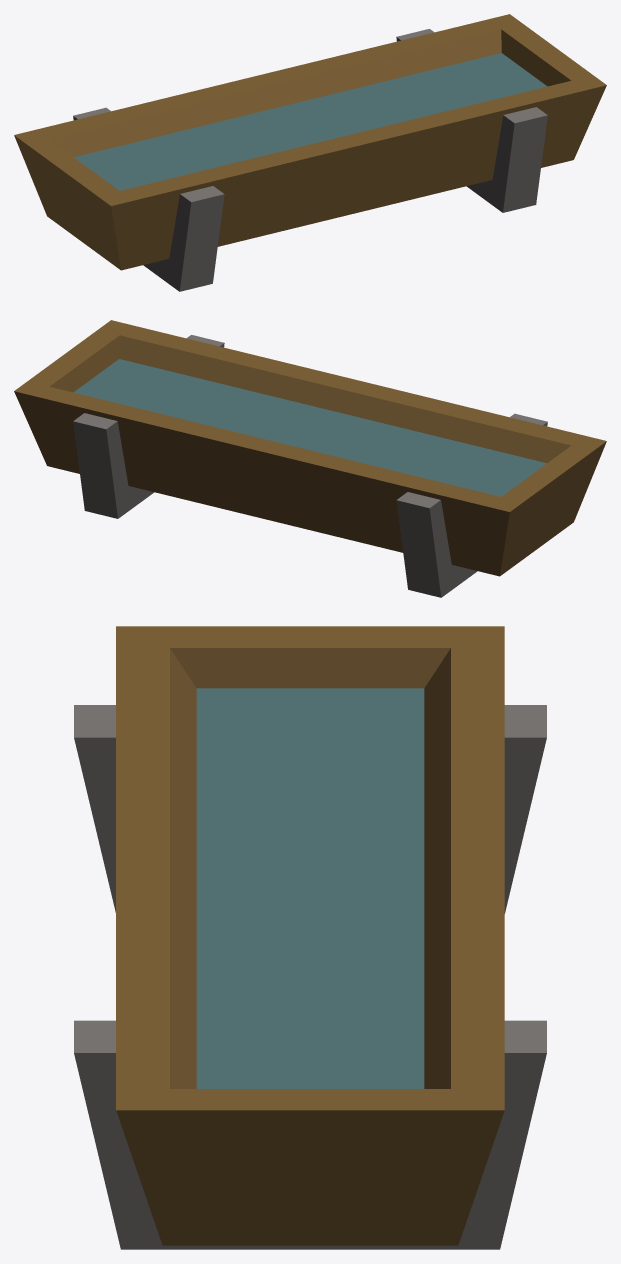
Rendered from WaterTrough.gltf.
The picture shows the model from 3 angles, top to bottom: view 1: azimuth 30°, elevation 25°; view 2: azimuth 150°, elevation 25°; view 3: azimuth 270°, elevation 25°; orthographic projection. The views are drawn at different scales.
Parts seen in each view (by area): view 1: SF_Prop_WaterTrough_01; view 2: SF_Prop_WaterTrough_01; view 3: SF_Prop_WaterTrough_01.
Boxes of the visible parts, bbox=[...] form: SF_Prop_WaterTrough_01: bbox=[14, 14, 606, 291]; SF_Prop_WaterTrough_01: bbox=[14, 320, 606, 597]; SF_Prop_WaterTrough_01: bbox=[74, 626, 546, 1249].
Bounding box in the file's own units: 0.0328 × 0.00654 × 0.0135.
Materials: 1 (1 with a texture image).
